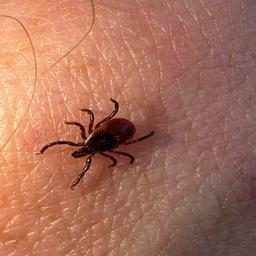Ixodes scapularis: (37, 98, 157, 189)
